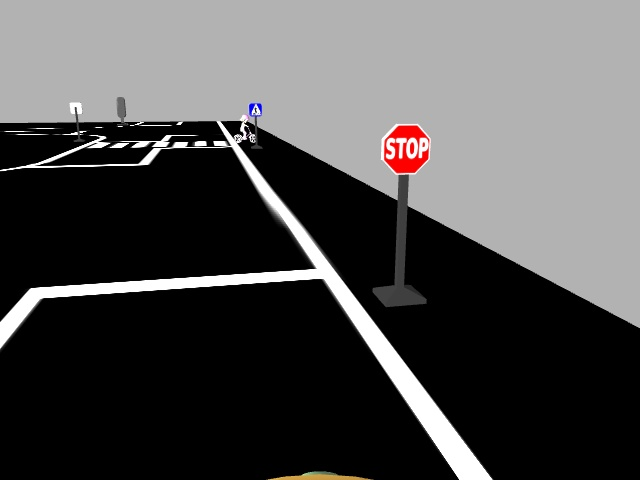Stop: (379, 123, 431, 176)
